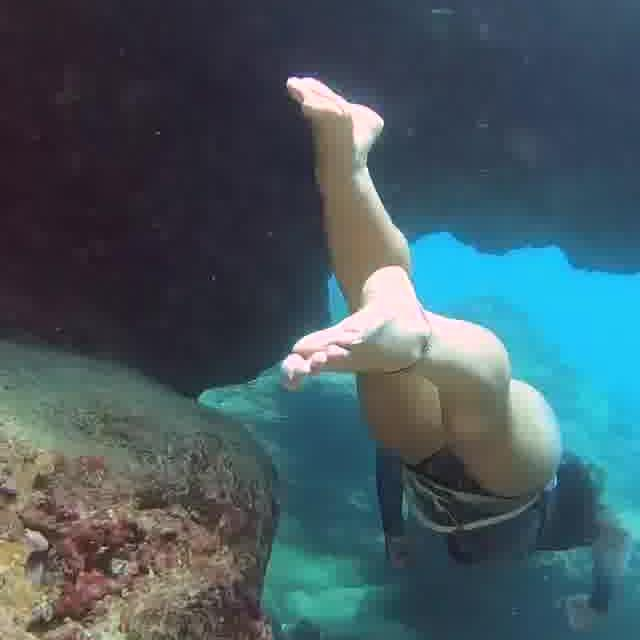human: (256, 53, 628, 640)
